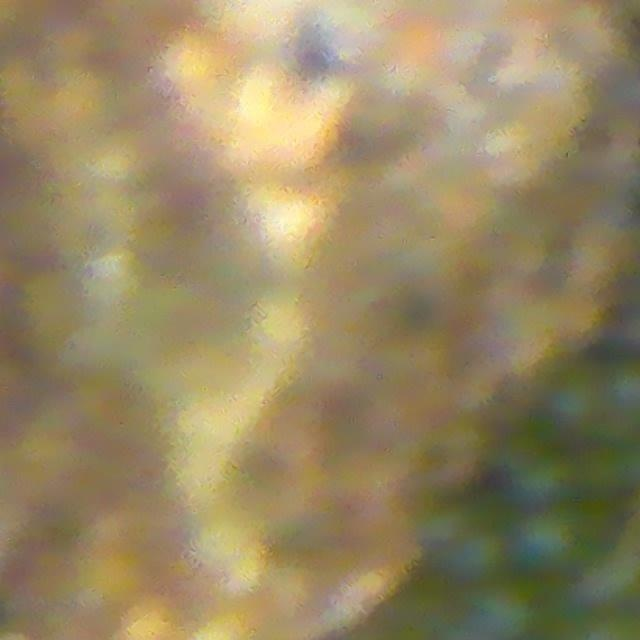SeaGrape: (513, 505, 583, 574), (467, 577, 541, 640), (544, 365, 608, 434), (448, 526, 507, 584)
